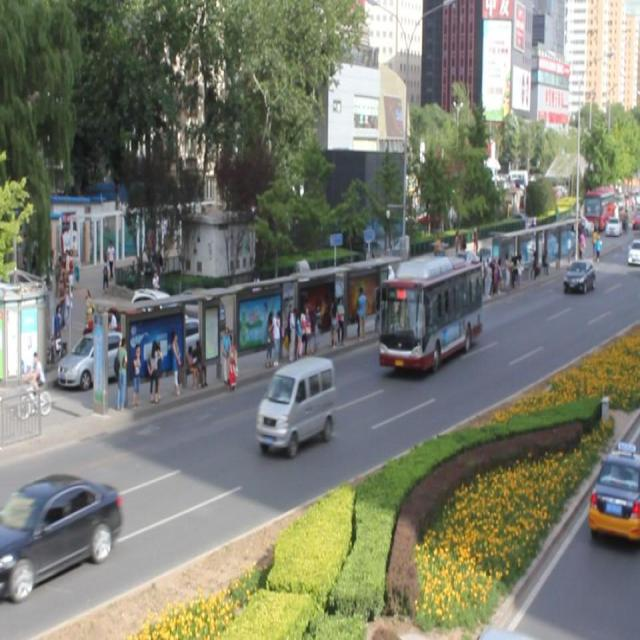car: (1, 471, 121, 591), (563, 255, 594, 290)
truck: (257, 354, 333, 450)
van: (378, 255, 482, 365)
